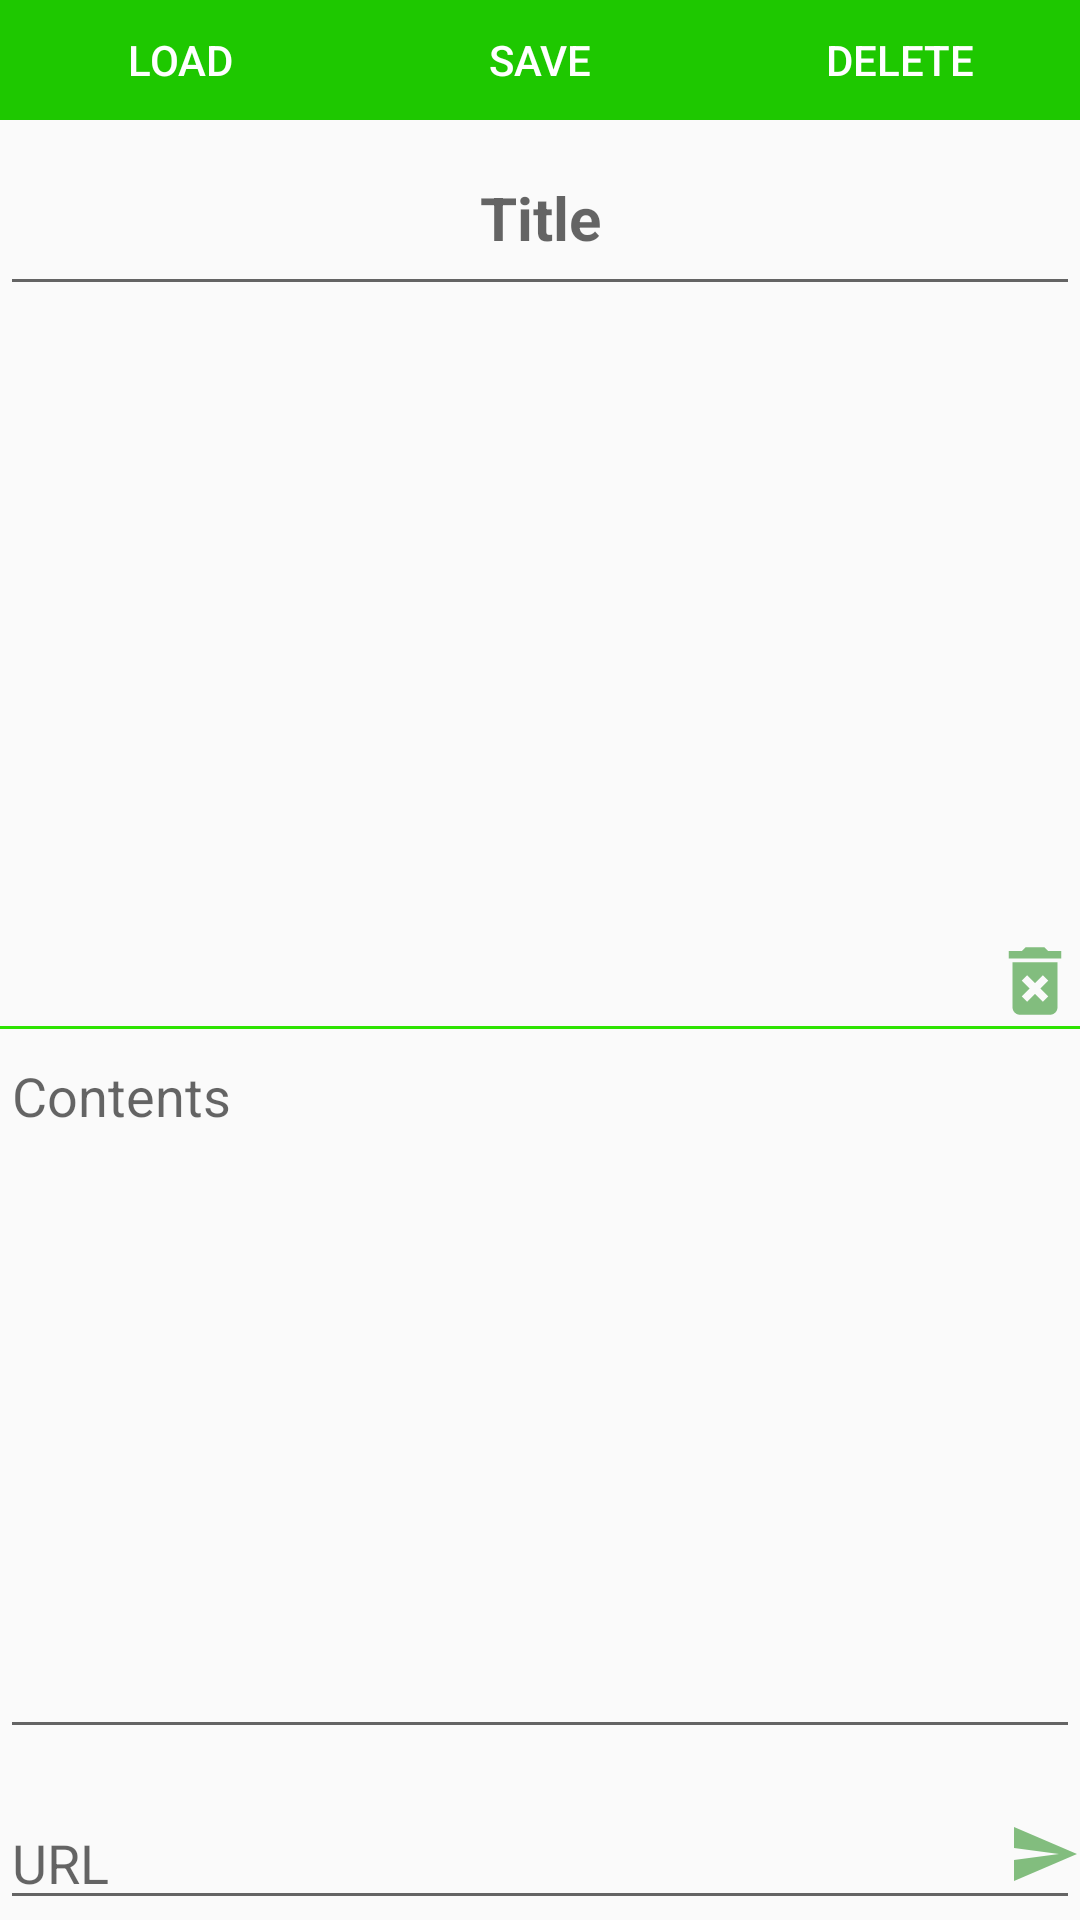

Point at icon controls on the screen. Image size 1080×1920, points as (x=x, y=y).
delete forever: (x=1035, y=981)
send: (x=1045, y=1854)
